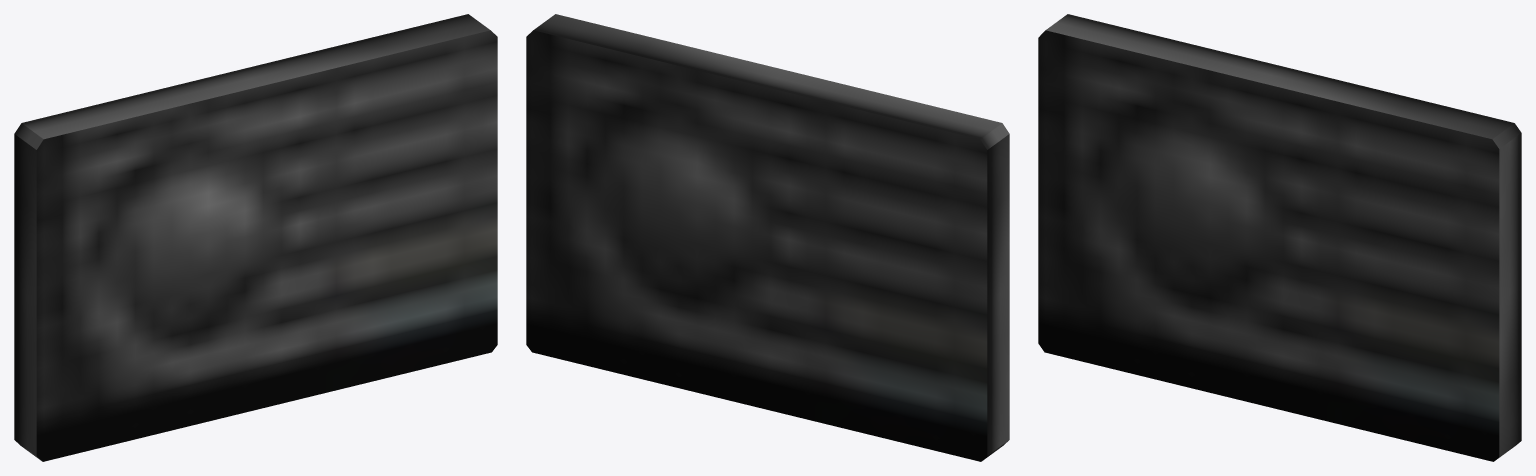
Rendered from item_cassette.dae.
The picture shows the model from 3 angles, left to right: view 1: azimuth 30°, elevation 25°; view 2: azimuth 150°, elevation 25°; view 3: azimuth 330°, elevation 25°; orthographic projection.
Visible parts, largest first — view 1: tape; view 2: tape; view 3: tape.
Part boxes in pixels (x1,y1,x2,y2): tape: [14, 14, 497, 461]; tape: [526, 14, 1009, 461]; tape: [1038, 14, 1521, 461].
Size of what is drawn, in the model's own units: 0.1054 by 0.0704 by 0.00883.
